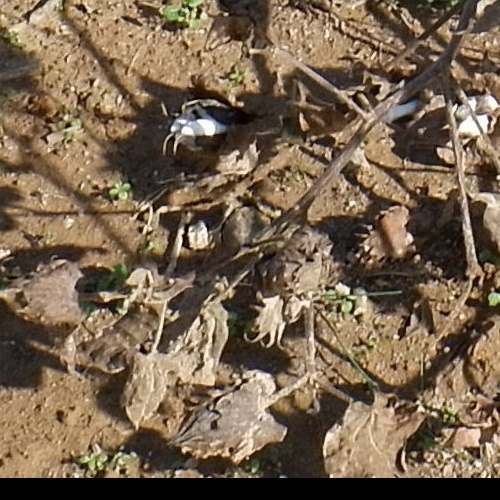immature_boll: (77, 266, 459, 475)
mature_boll: (159, 73, 279, 211)
